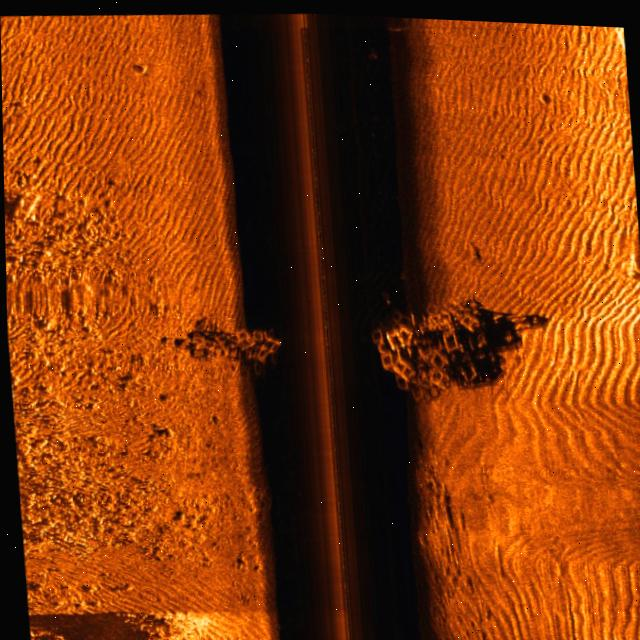artificial reef: (359, 279, 504, 407), (185, 304, 296, 381)
